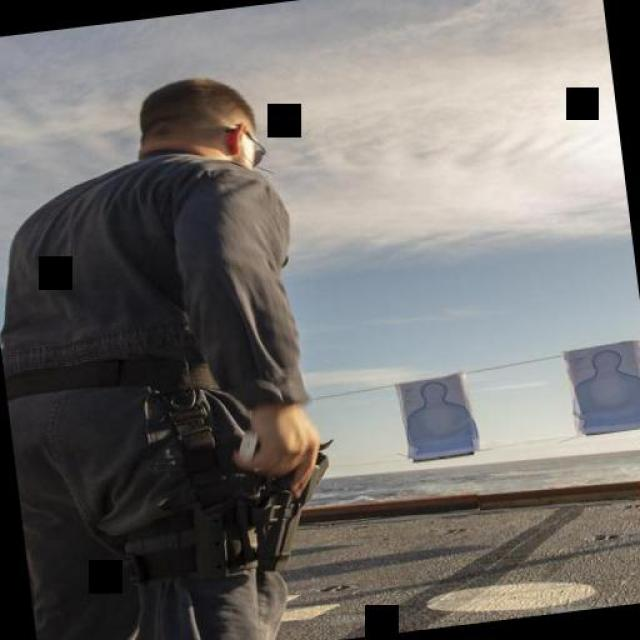gun: (189, 430, 359, 586)
